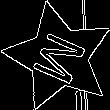M_SE: (26, 25, 92, 88)
